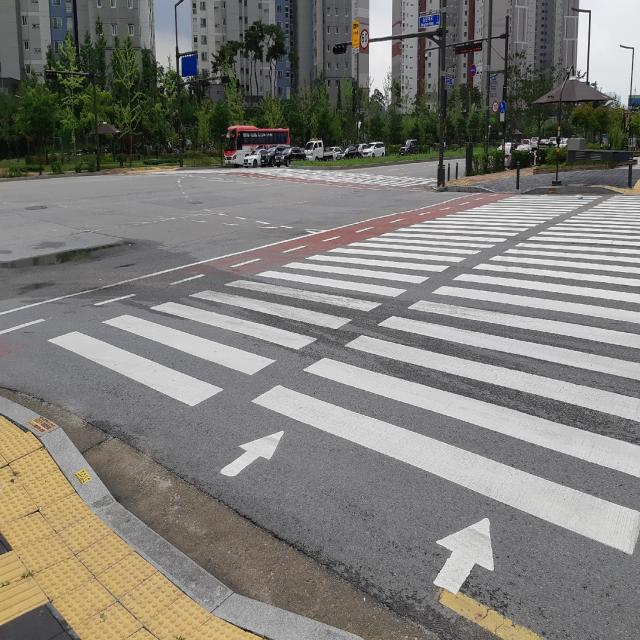횡단보도: (48, 194, 640, 595)
